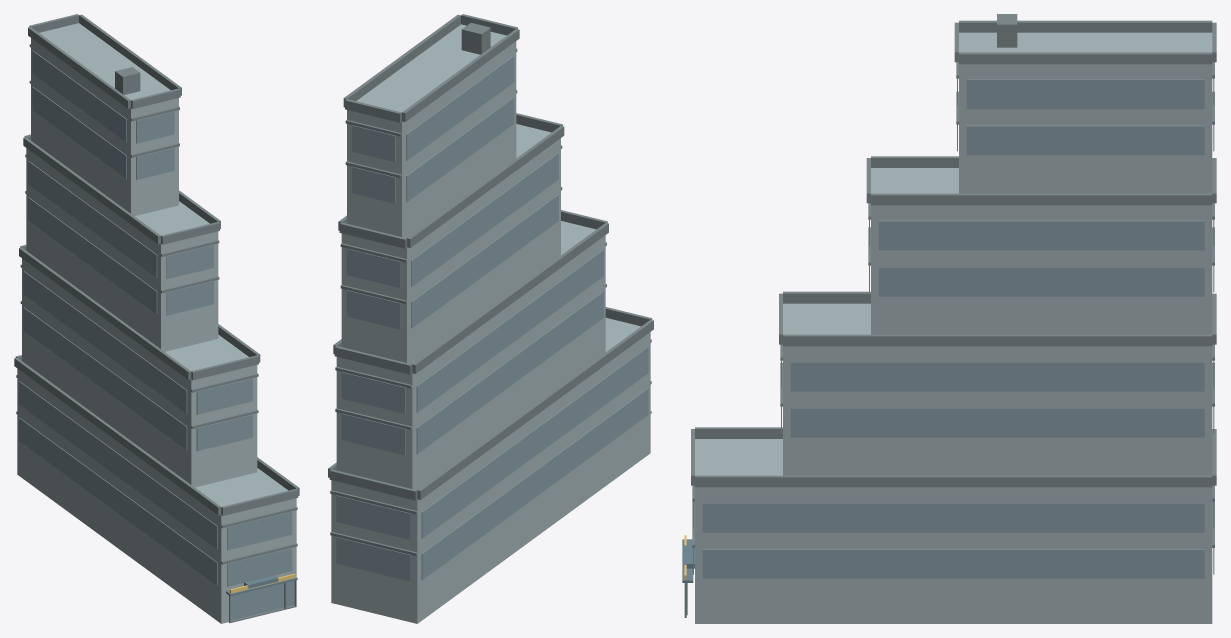
The model's file is commercial_1x4_terraces.glb.
3 renders of one model, left to right at view 1: azimuth 30°, elevation 25°; view 2: azimuth 150°, elevation 25°; view 3: azimuth 270°, elevation 25°, orthographic. The views are drawn at different scales.
Parts seen in each view (by area): view 1: commercial_1x4_terraces_0; view 2: commercial_1x4_terraces_0; view 3: commercial_1x4_terraces_0.
Part boxes in pixels (x1,y1,x2,y2): commercial_1x4_terraces_0: [14, 14, 299, 623]; commercial_1x4_terraces_0: [328, 14, 653, 623]; commercial_1x4_terraces_0: [682, 14, 1216, 623].
Size of the model in its own units: 7 by 37.5 by 31.5.
